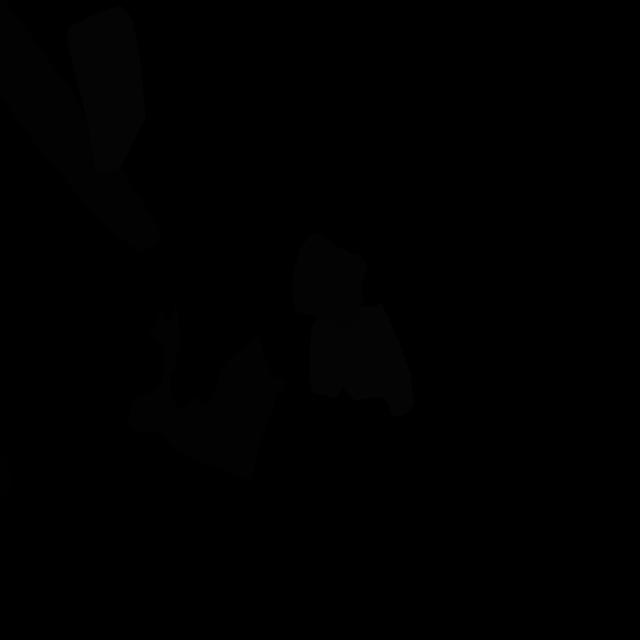cardboard: (0, 0, 160, 251), (127, 304, 288, 481)
metal: (292, 232, 368, 329)
rigid_plastic: (0, 451, 12, 503)
soft_plastic: (67, 6, 146, 175), (310, 303, 414, 417)
